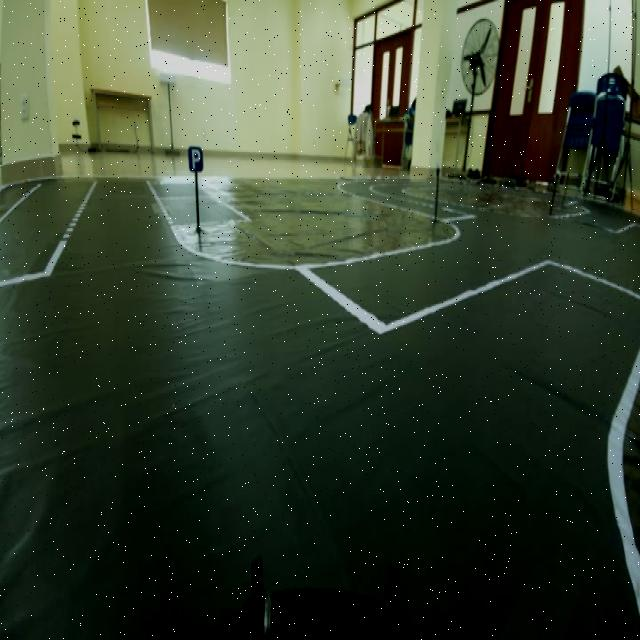parking: (186, 136, 204, 173)
